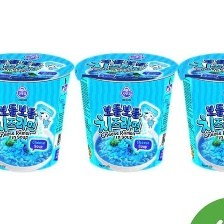paper_cup: (71, 47, 182, 176), (0, 46, 78, 175), (173, 48, 224, 177)
